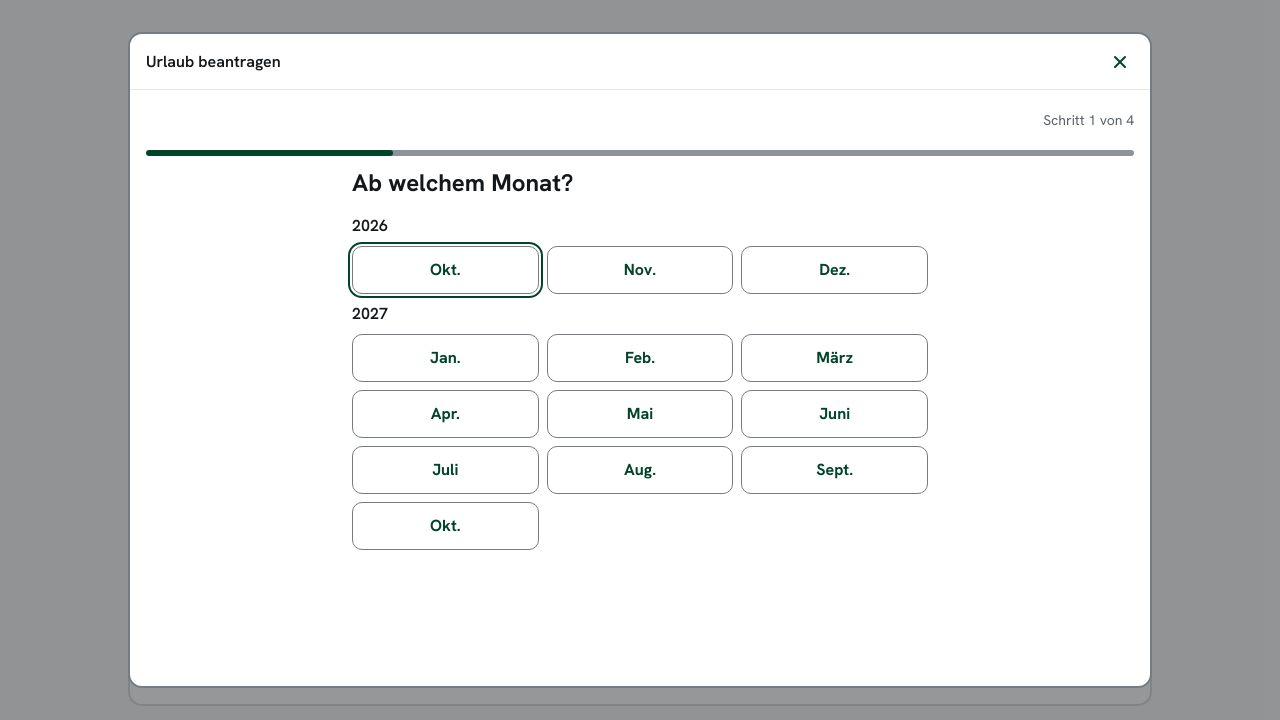
it: UrlaubBeantragenPage › ändert den Zeitraum aus der Zusammenfassung und kehrt dorthin zurück
Click the button with aria-label "Nov. 2026". click: (640, 270)
box: left=547, top=246, right=733, bottom=294
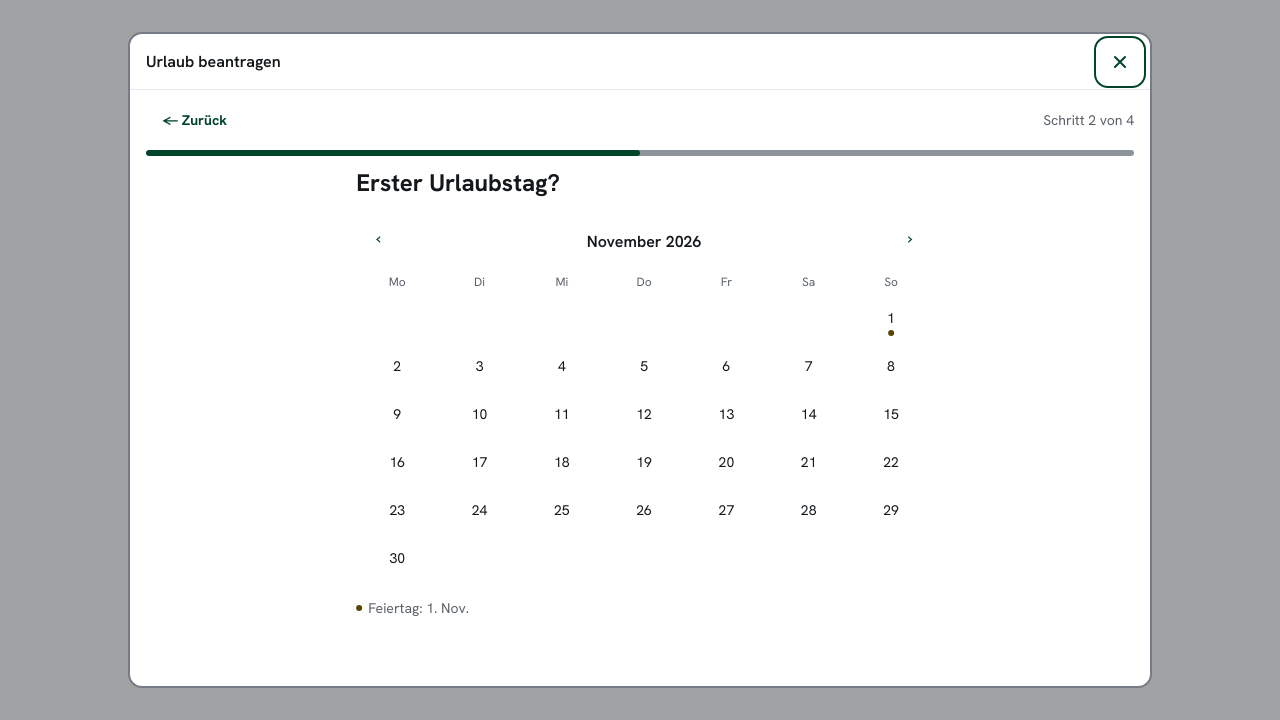
Click the button "2". click: (394, 366)
box: left=372, top=344, right=416, bottom=388
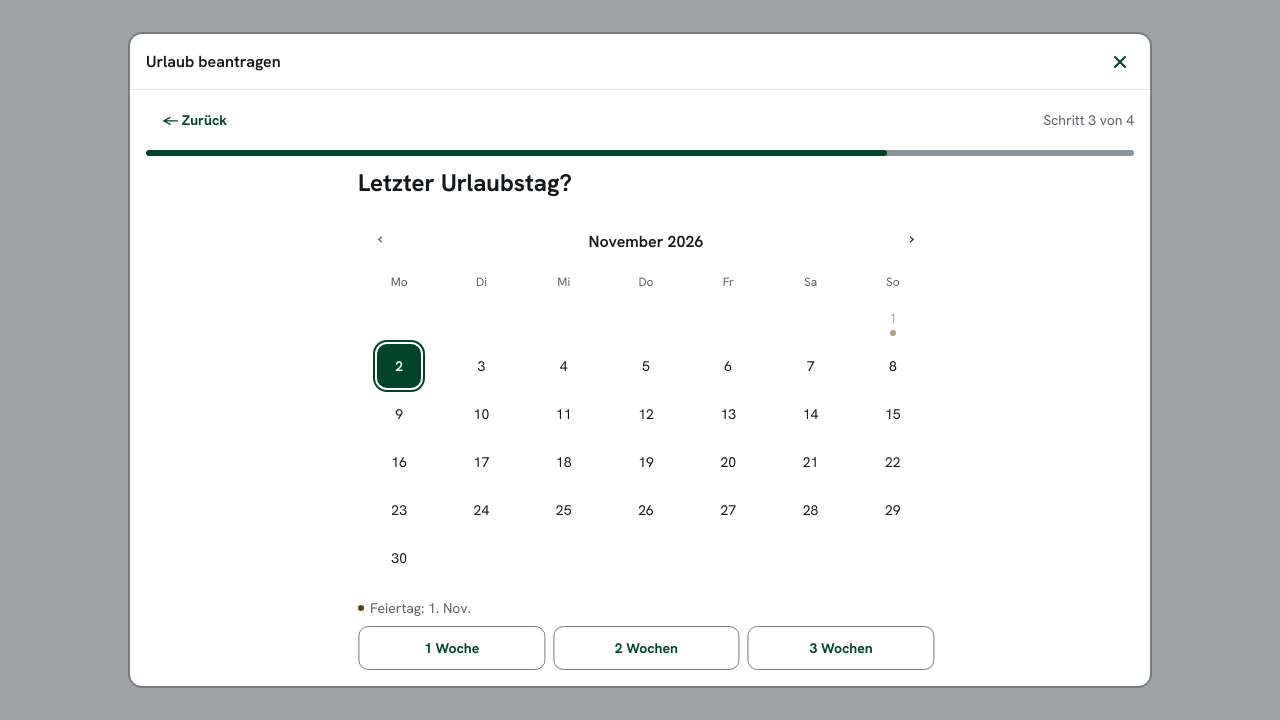
Click the button "13". click: (723, 414)
box: left=701, top=392, right=745, bottom=436
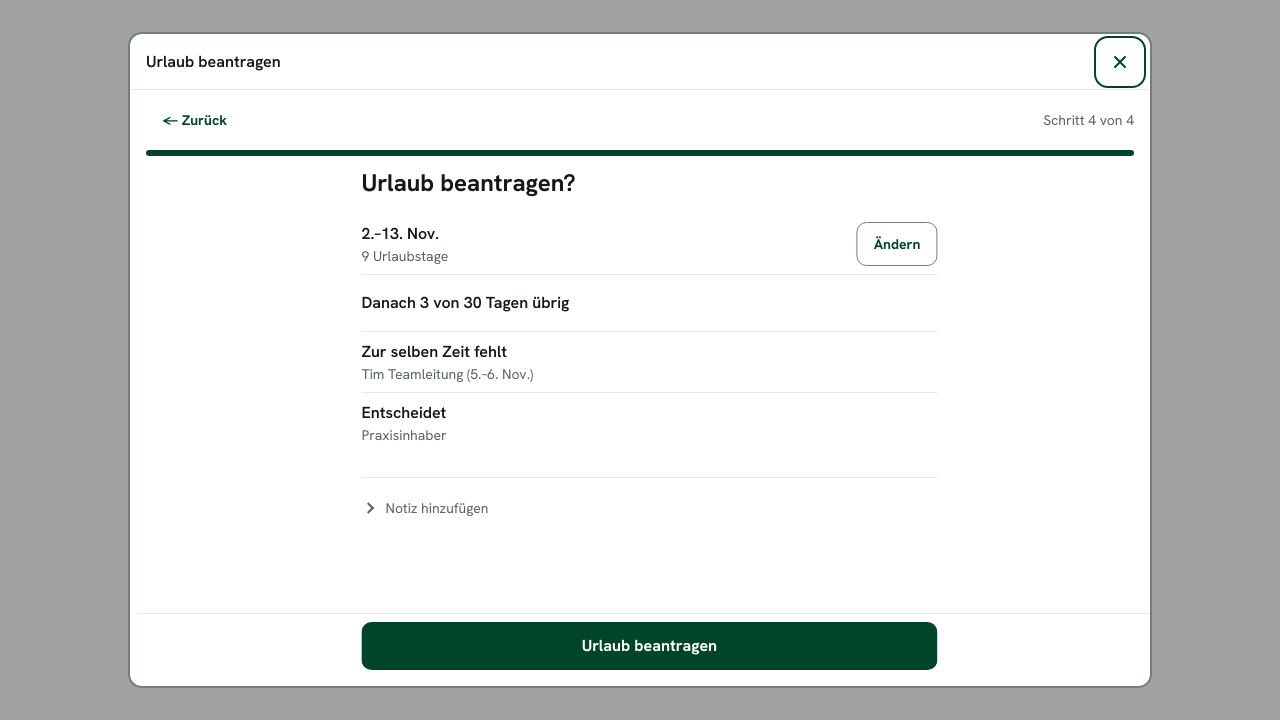
Expected: the text "2.–13. Nov." is shown, left=354, top=223, right=432, bottom=244
Click the button "Ändern". click: (890, 244)
box: left=850, top=222, right=930, bottom=266
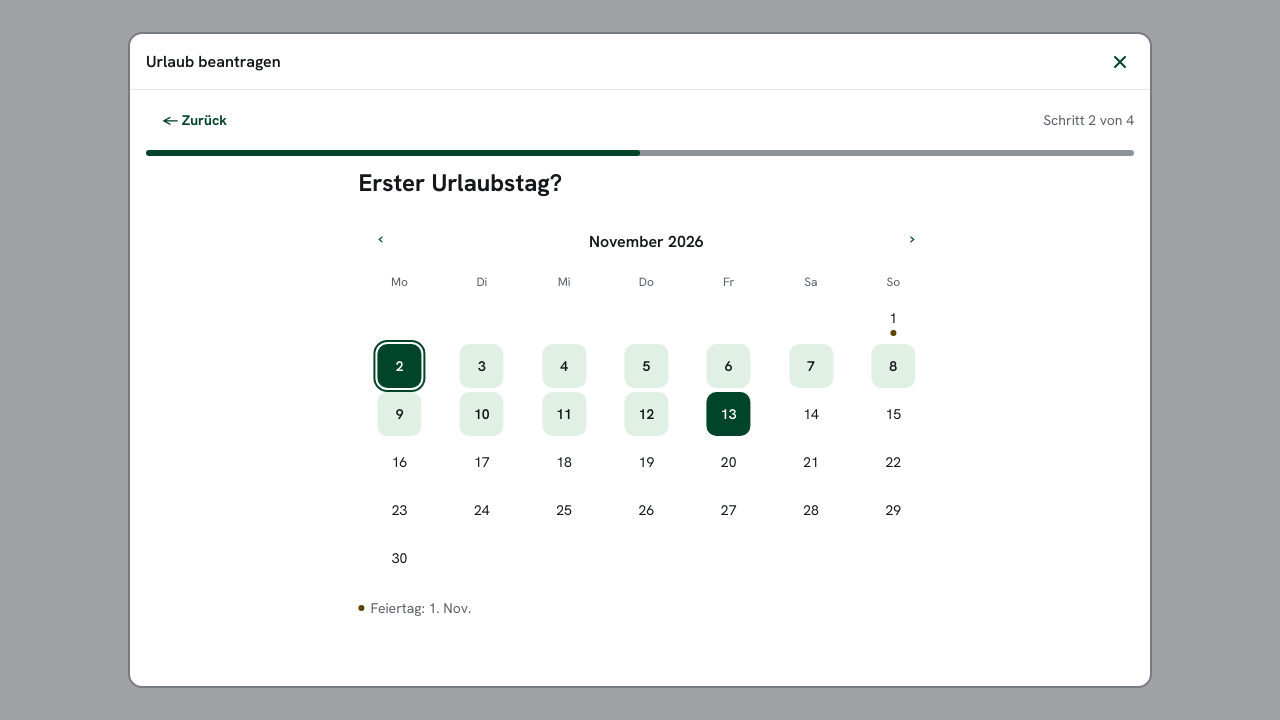
Click the button "9". click: (394, 414)
box: left=372, top=392, right=416, bottom=436
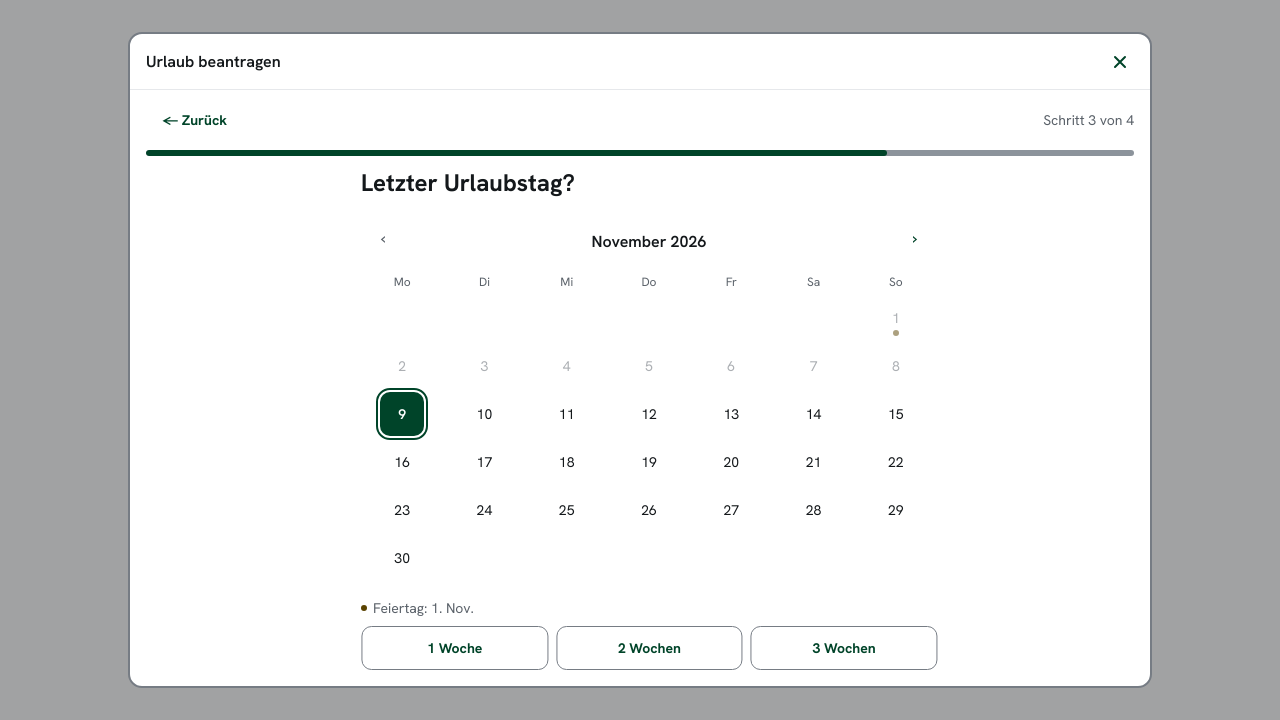
Click the button "12". click: (641, 414)
box: left=619, top=392, right=663, bottom=436
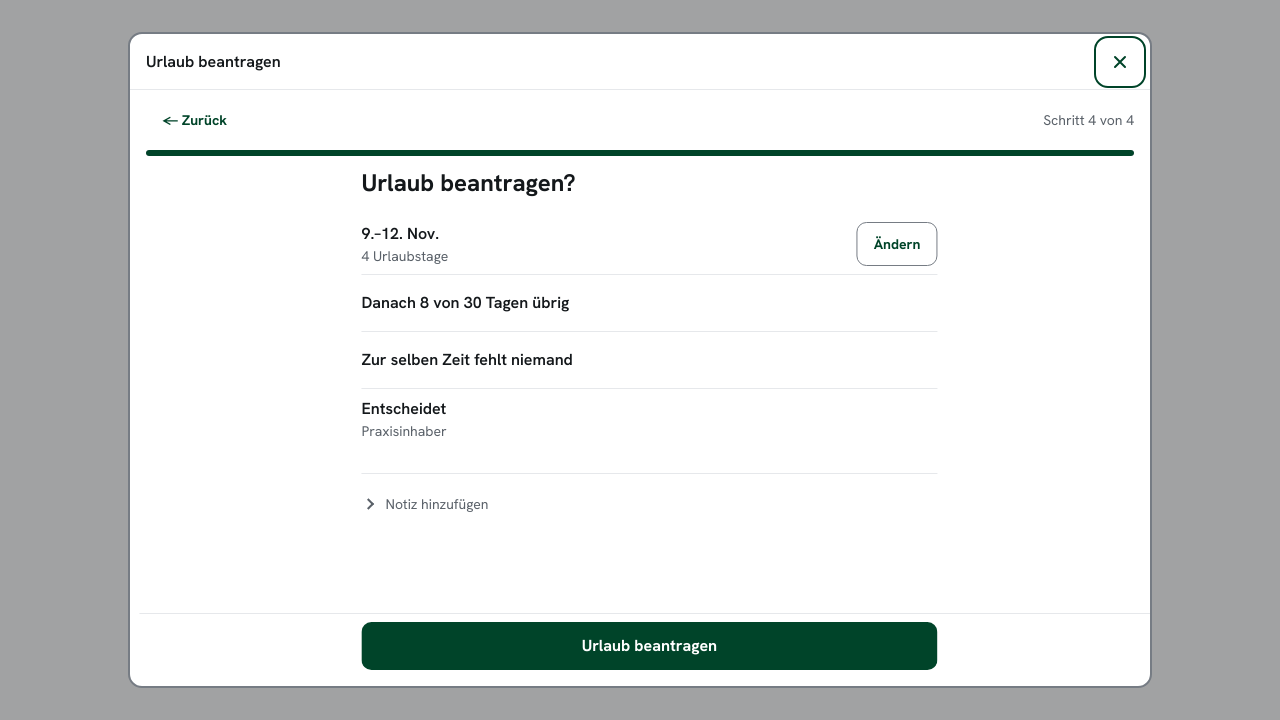
Expected: the text "9.–12. Nov." is shown, left=353, top=223, right=431, bottom=244
Expected: the text "Zur selben Zeit fehlt niemand" is shown, left=353, top=349, right=565, bottom=370
